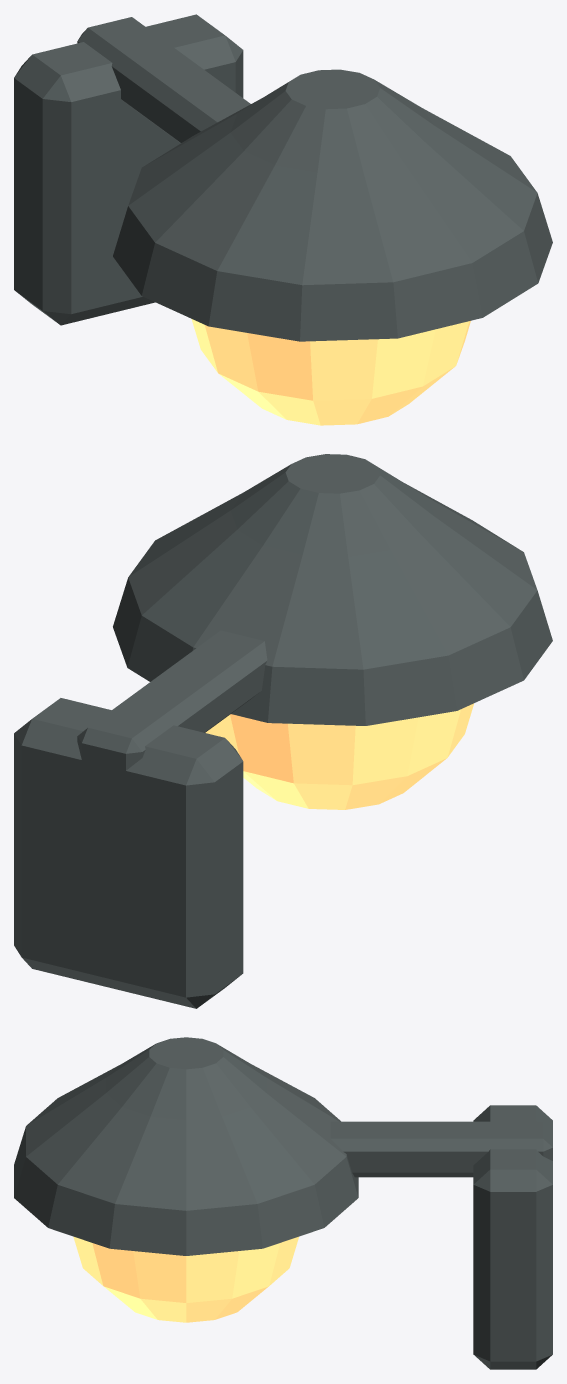
File: lamp.glb
3 views of the same model, one above another, from view 1: azimuth 30°, elevation 25°; view 2: azimuth 150°, elevation 25°; view 3: azimuth 270°, elevation 25° (orthographic). The views are drawn at different scales.
Parts seen in each view (by area): view 1: lamp; view 2: lamp; view 3: lamp.
Part boxes in pixels (x1,y1,x2,y2): lamp: (14,14,552,425); lamp: (14,454,552,1008); lamp: (14,1037,552,1369).
Size of the model in its own units: 0.4 by 0.355 by 0.61.
